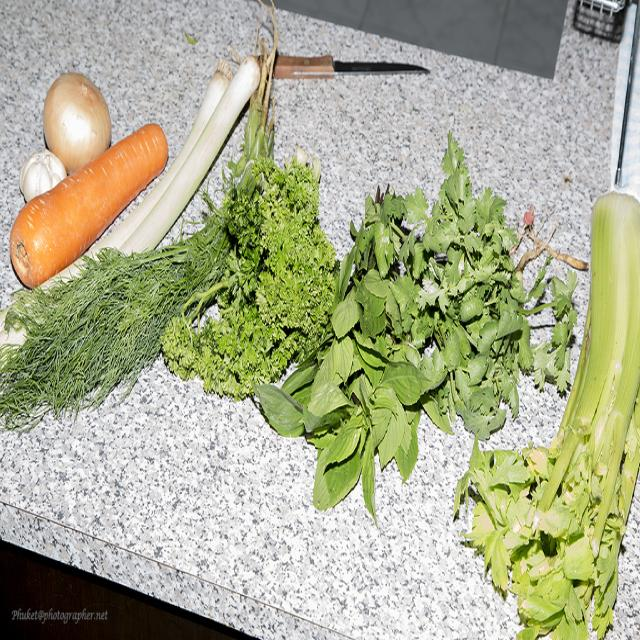Carrot: (2, 124, 182, 273)
